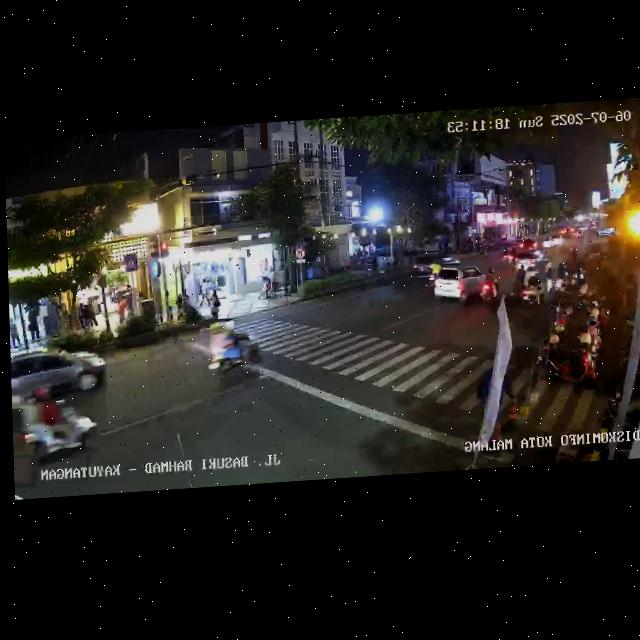car: (11, 345, 107, 408), (431, 263, 492, 309), (510, 237, 539, 258)
motorcycle: (17, 383, 101, 473), (206, 319, 264, 381), (517, 265, 544, 309), (477, 270, 500, 310), (502, 246, 515, 267)
person: (211, 289, 222, 321), (27, 317, 40, 344), (198, 279, 210, 307), (77, 302, 88, 332), (116, 298, 127, 327), (88, 298, 97, 331), (545, 262, 553, 294), (10, 324, 18, 348)
